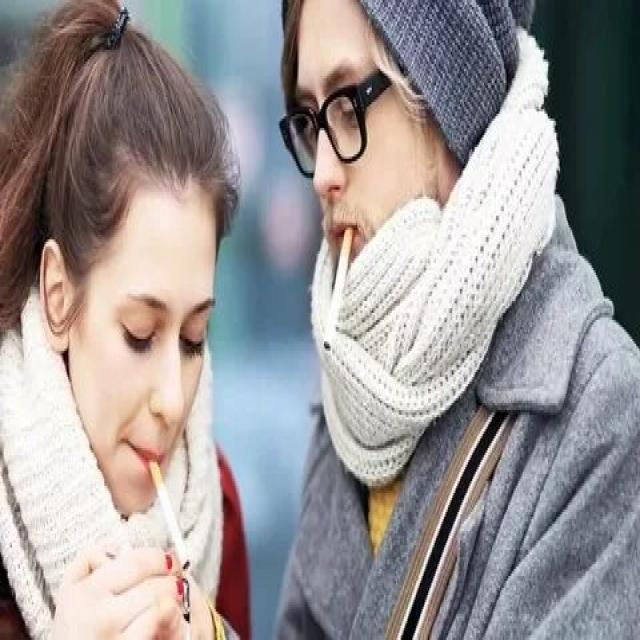cigarette: (145, 457, 195, 581), (321, 223, 356, 360)
